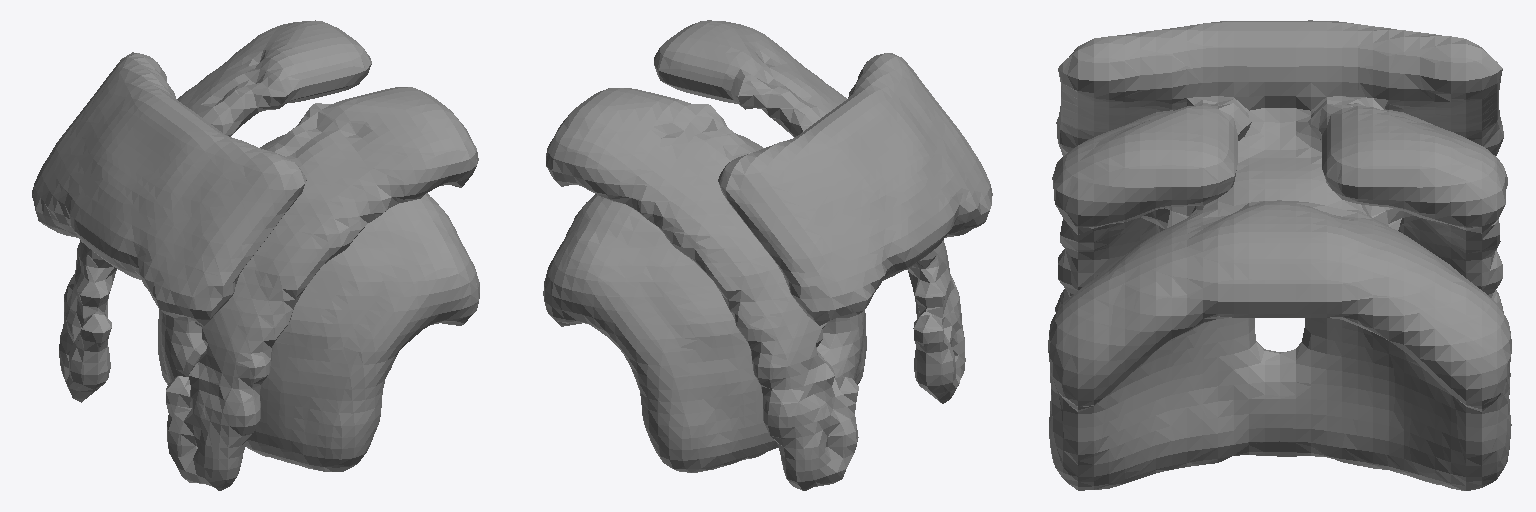
The robot description file, URDF, robot "cube.urdf":
<?xml version="0.0" ?> 
<robot name="cube.urdf"> 
<link name="legobrick"> 
<contact> 
<lateral_friction value="5.0"/> 
<rolling_friction value="0.0"/> 
<contact_cfm value="0.0"/> 
<contact_erp value="1.0"/> 
</contact> 
<inertial> 
<origin rpy="0 0 0" xyz="0.0 0.0 0.0"/> 
<mass value=".01"/> 
<inertia ixx="1" ixy="0" ixz="0" iyy="1" iyz="0" izz="1"/> 
</inertial> 
<visual> 
<origin rpy="1.570796 0 0" xyz="-0.02528395648128122 0.025912565576360302 -0.030212165134696985"/> 
<geometry> 
<mesh filename="Q19_1.obj" scale="0.000696212255570067 0.000696212255570067 0.000696212255570067"/> 
</geometry> 
<material name="yellow"> 
<color rgba="0.6 0.6 0.6 1"/> 
</material> 
</visual> 
<collision> 
<origin rpy="1.570796 0 0" xyz="-0.02528395648128122 0.025912565576360302 -0.030212165134696985"/> 
<geometry> 
<mesh filename="Q19_1.obj" scale="0.000696212255570067 0.000696212255570067 0.000696212255570067"/> 
</geometry> 
</collision> 
</link> 
</robot>

--- Render facts (derived) ---
3 views of the same robot in one strip: view 1: azimuth 30°, elevation 25°; view 2: azimuth 150°, elevation 25°; view 3: azimuth 270°, elevation 25° (orthographic).
Model cube.urdf with 1 links and 0 joints (none), rooted at legobrick, posed all joints at 0.
Visible links, largest first — view 1: legobrick; view 2: legobrick; view 3: legobrick.
Link boxes in pixels (x1=…): legobrick: x1=32, y1=20, x2=479, y2=490; legobrick: x1=543, y1=20, x2=992, y2=490; legobrick: x1=1048, y1=20, x2=1511, y2=490.
Bounding box of the posed robot: 0.0558 × 0.0561 × 0.056 m (x, y, z).
1 mesh visuals loaded from 1 distinct referenced files (1 OBJ).
